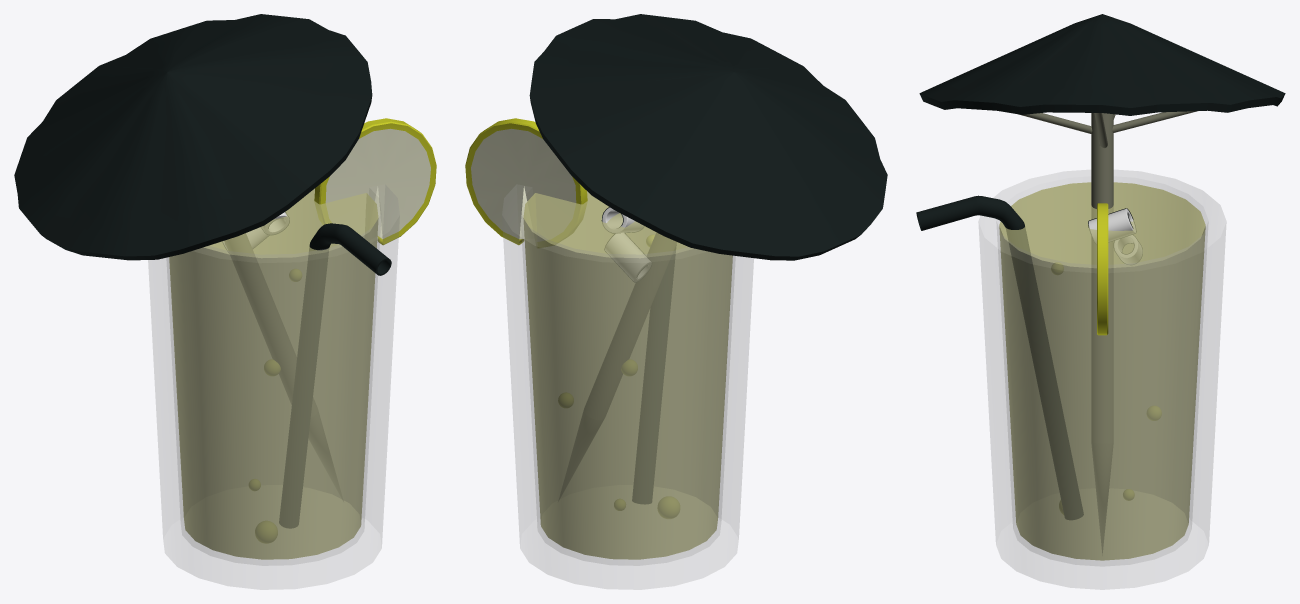
File: drink.fbx
The picture shows the model from 3 angles, left to right: view 1: azimuth 30°, elevation 25°; view 2: azimuth 150°, elevation 25°; view 3: azimuth 270°, elevation 25°; orthographic projection. The views are drawn at different scales.
Parts seen in each view (by area): view 1: polySurface2, polySurface6, pCylinder10, pCylinder9, polySurface12, pCylinder2; view 2: polySurface2, pCylinder10, polySurface6, pCylinder9, pCylinder2, polySurface12, polySurface5, polySurface3; view 3: polySurface2, pCylinder10, polySurface6, polySurface12, pCylinder2, pCylinder9, polySurface3, pCylinder7, polySurface5, pCylinder8.
Boxes of the visible parts, x1,y1,x2,y2 form: polySurface2: (148,185,399,589); polySurface6: (14,14,372,260); pCylinder10: (169,188,378,559); pCylinder9: (314,118,436,245); polySurface12: (279,223,391,528); pCylinder2: (224,233,342,499); polySurface2: (502,185,753,589); pCylinder10: (523,191,732,559); polySurface6: (529,14,887,260); pCylinder9: (465,118,587,247); pCylinder2: (559,232,676,499); polySurface12: (632,245,676,503); polySurface5: (604,233,651,282); polySurface3: (601,207,644,233); polySurface2: (978,170,1226,589); pCylinder10: (999,182,1205,560); polySurface6: (919,14,1285,115); polySurface12: (916,195,1083,519); pCylinder2: (1091,113,1113,552); pCylinder9: (1097,203,1108,335); polySurface3: (1088,208,1136,244); pCylinder7: (1112,111,1197,132); polySurface5: (1114,235,1142,264); pCylinder8: (1018,113,1092,133).
Size of the model in its own units: 7.44 by 9 by 6.24.
